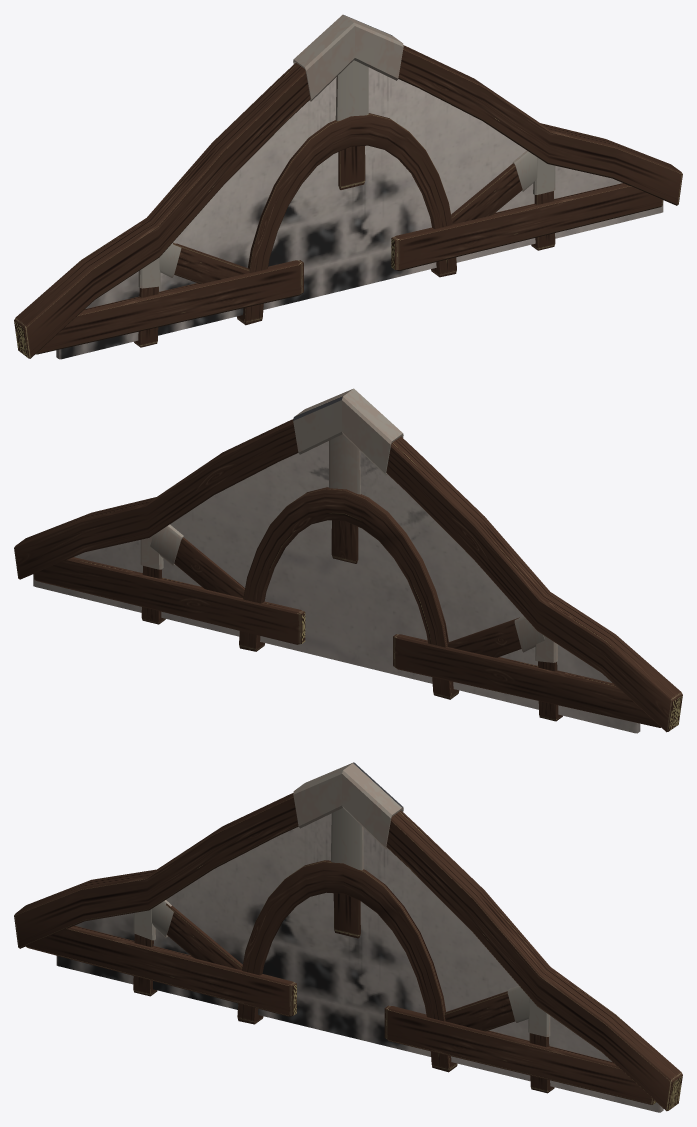
File: Roof_Wall_V3.fbx
3 renders of one model, top to bottom at view 1: azimuth 30°, elevation 25°; view 2: azimuth 150°, elevation 25°; view 3: azimuth 330°, elevation 25°, orthographic.
Visible parts, largest first — view 1: Arch1.001; view 2: Arch1.001; view 3: Arch1.001.
Boxes of the visible parts, x1=… form: Arch1.001: x1=14, y1=14, x2=682, y2=359; Arch1.001: x1=14, y1=388, x2=682, y2=733; Arch1.001: x1=14, y1=762, x2=682, y2=1112.
Size of the model in its own units: 499 by 201 by 17.25.
